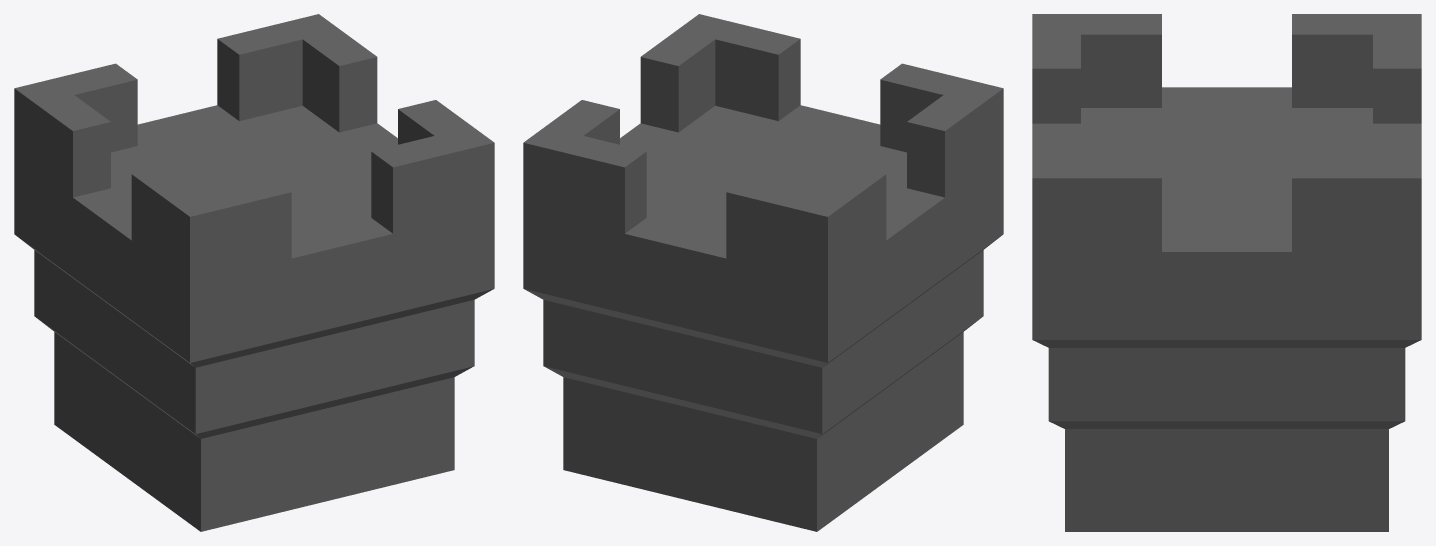
File: TowerTop.fbx
3 renders of one model, left to right at view 1: azimuth 30°, elevation 25°; view 2: azimuth 150°, elevation 25°; view 3: azimuth 270°, elevation 25°, orthographic. The views are drawn at different scales.
Parts seen in each view (by area): view 1: TowerTop; view 2: TowerTop; view 3: TowerTop.
Part boxes in pixels (x1,y1,x2,y2): TowerTop: (14, 14, 494, 531); TowerTop: (523, 14, 1003, 531); TowerTop: (1032, 14, 1421, 531).
Size of the model in its own units: 240 by 250 by 240.
